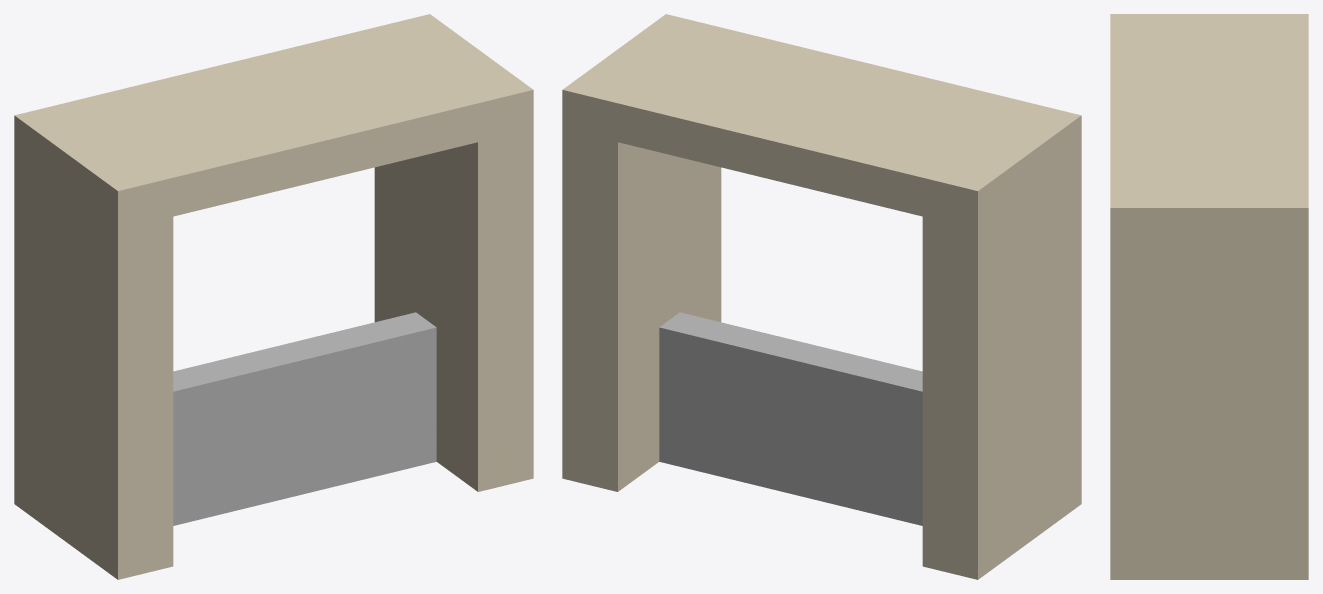
The model's file is zamen1.glb.
3 renders of one model, left to right at view 1: azimuth 30°, elevation 25°; view 2: azimuth 150°, elevation 25°; view 3: azimuth 270°, elevation 25°, orthographic. The views are drawn at different scales.
Visible parts, largest first — view 1: Box001, Box002, Box003, Box004; view 2: Box001, Box002, Box003, Box004; view 3: Box002, Box003, Box001.
Boxes of the visible parts, left/top/right/bottom form: Box001: left=14, top=102, right=173, bottom=579; Box002: left=374, top=14, right=533, bottom=491; Box003: left=14, top=27, right=486, bottom=229; Box004: left=173, top=312, right=436, bottom=525; Box001: left=922, top=102, right=1081, bottom=579; Box002: left=562, top=14, right=721, bottom=491; Box003: left=562, top=27, right=1081, bottom=229; Box004: left=659, top=312, right=922, bottom=525; Box002: left=1110, top=182, right=1308, bottom=579; Box003: left=1110, top=40, right=1308, bottom=245; Box001: left=1110, top=14, right=1308, bottom=39.
Size of the model in its own units: 0.1647 by 0.1472 by 0.0711.
